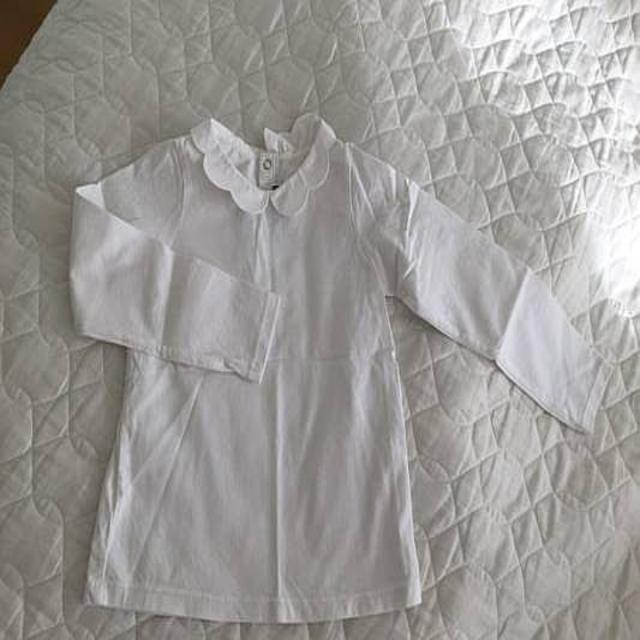SHIRT: (43, 102, 614, 629)
